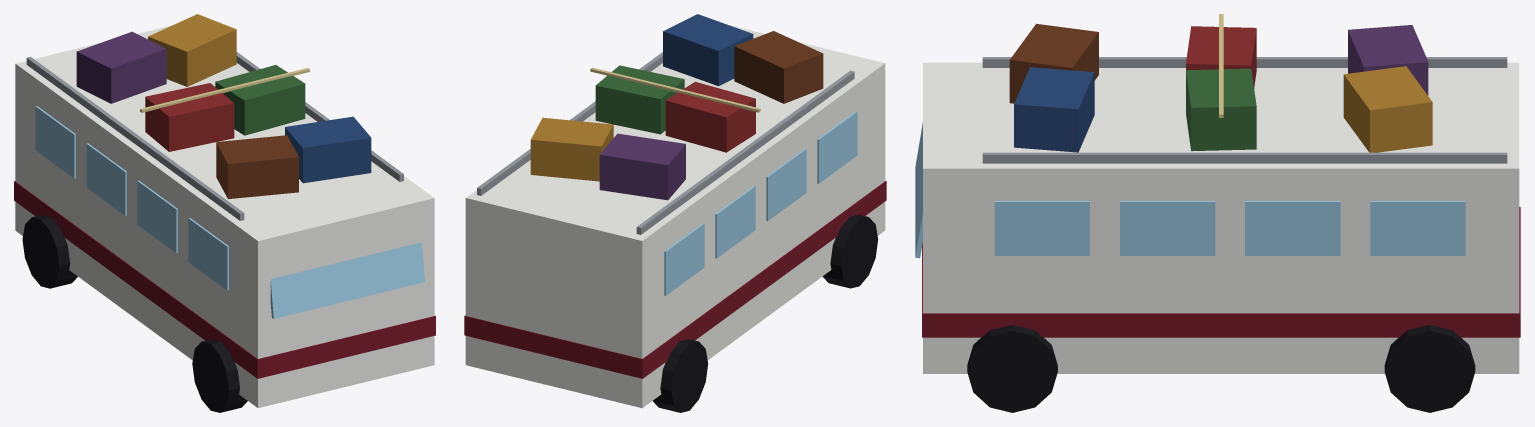
The model's file is hotel_shuttle.glb.
3 views of the same model, side by side, from view 1: azimuth 30°, elevation 25°; view 2: azimuth 150°, elevation 25°; view 3: azimuth 270°, elevation 25° (orthographic). The views are drawn at different scales.
Visible parts, largest first — view 1: body_van_white, roof_bags, glass_car_glass, stripe_hotel_burgundy, wheels_black, rack_cart_metal, rope_rope; view 2: body_van_white, roof_bags, stripe_hotel_burgundy, glass_car_glass, wheels_black, rack_cart_metal, rope_rope; view 3: body_van_white, roof_bags, glass_car_glass, stripe_hotel_burgundy, wheels_black, rack_cart_metal.
Part boxes in pixels (box(x1,y1,x2,y2)): body_van_white: box(15, 25, 434, 408); roof_bags: box(76, 14, 371, 199); glass_car_glass: box(35, 106, 424, 318); stripe_hotel_burgundy: box(14, 181, 435, 378); wheels_black: box(22, 215, 247, 412); rack_cart_metal: box(26, 18, 403, 220); rope_rope: box(140, 68, 309, 112); body_van_white: box(465, 25, 885, 408); roof_bags: box(530, 14, 823, 200); stripe_hotel_burgundy: box(464, 181, 886, 378); glass_car_glass: box(664, 111, 857, 295); wheels_black: box(653, 214, 878, 412); rack_cart_metal: box(477, 52, 854, 234); rope_rope: box(590, 67, 760, 112); body_van_white: box(923, 62, 1519, 373); roof_bags: box(1009, 23, 1432, 152); glass_car_glass: box(915, 122, 1465, 258); stripe_hotel_burgundy: box(922, 207, 1520, 337); wheels_black: box(967, 325, 1475, 412); rack_cart_metal: box(982, 57, 1507, 163).
Bounding box in the file's own units: 2.36 × 2.67 × 5.07.
